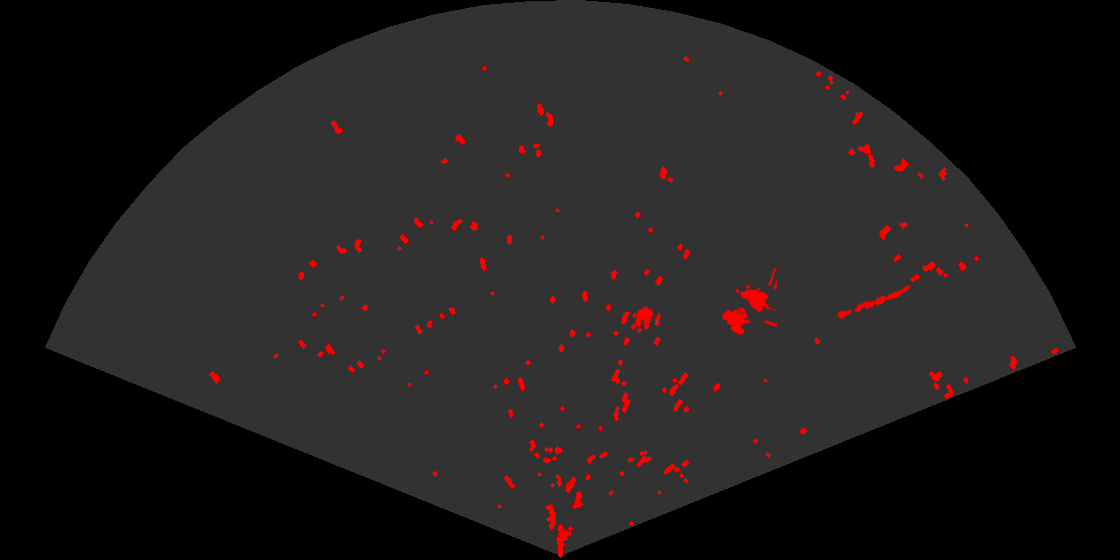ball: (633, 305, 662, 332)
cage: (720, 268, 777, 337)
chain: (833, 284, 913, 321)
